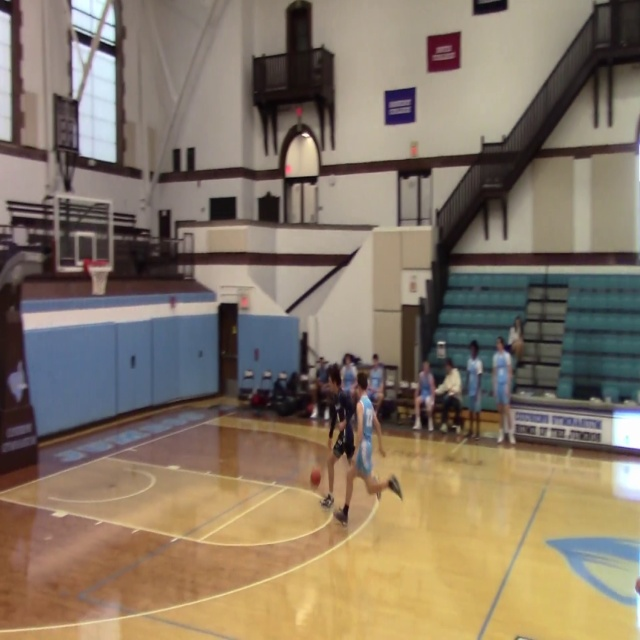Basketball: (310, 468, 321, 486)
